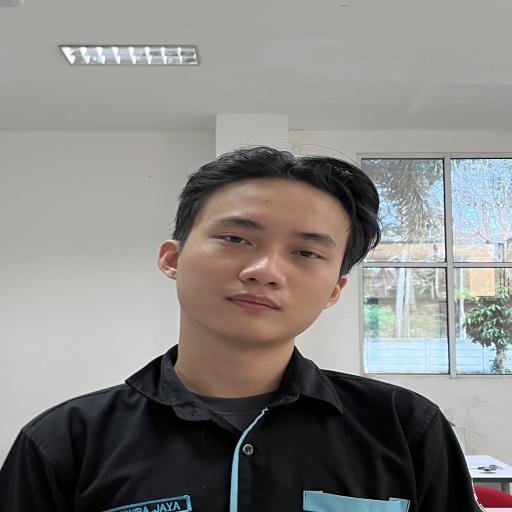wajah: (106, 138, 391, 401)
